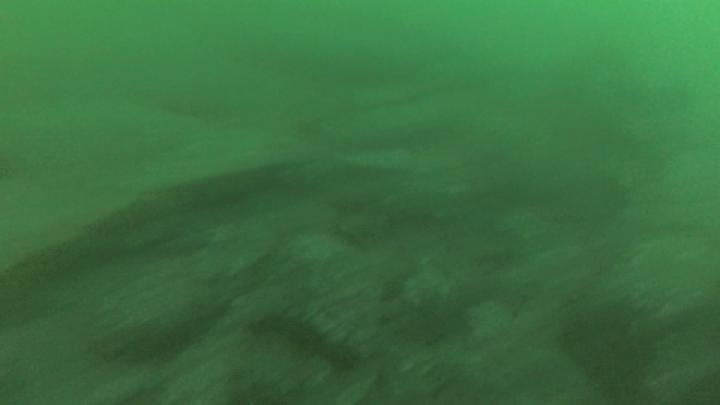holothurian: (248, 307, 364, 370)
